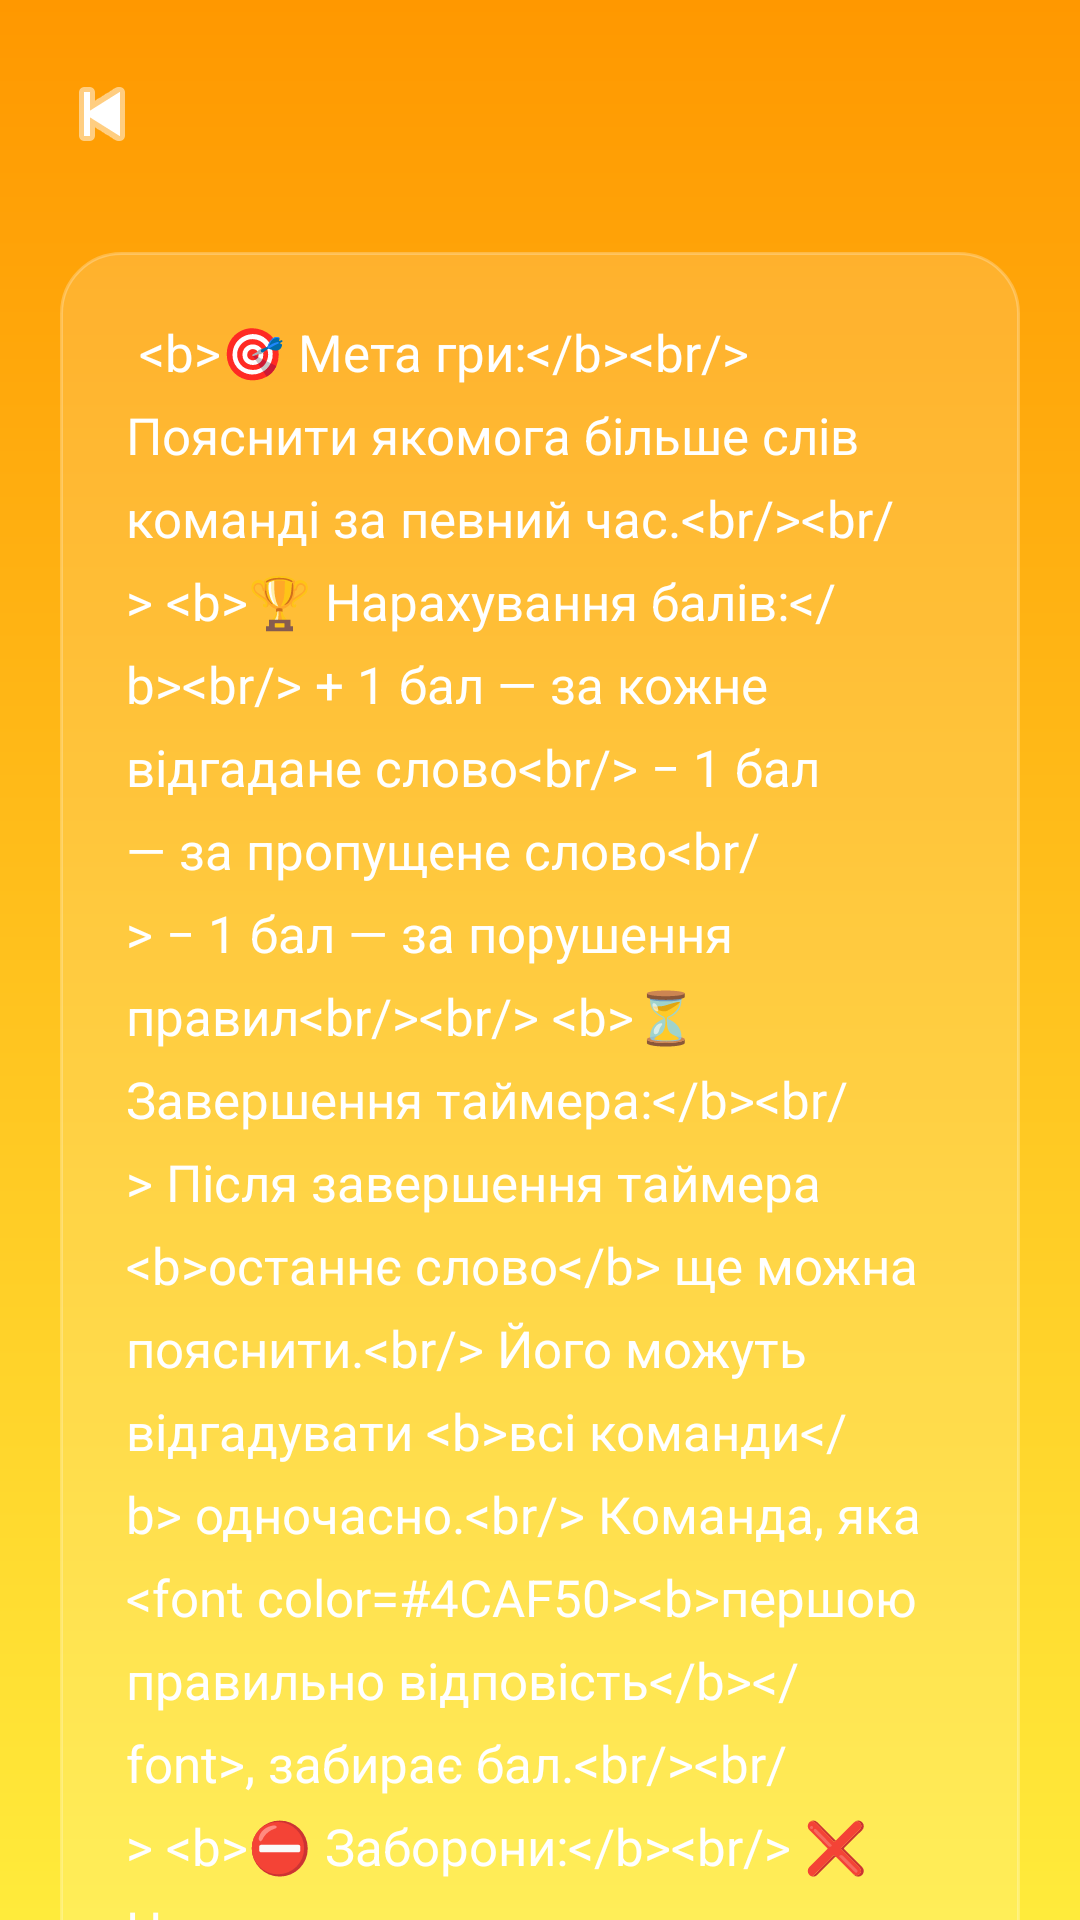

Point at icon controls on the screen. Image size 1080px×1920px, points as (x,y).
Назад: (102,114)
